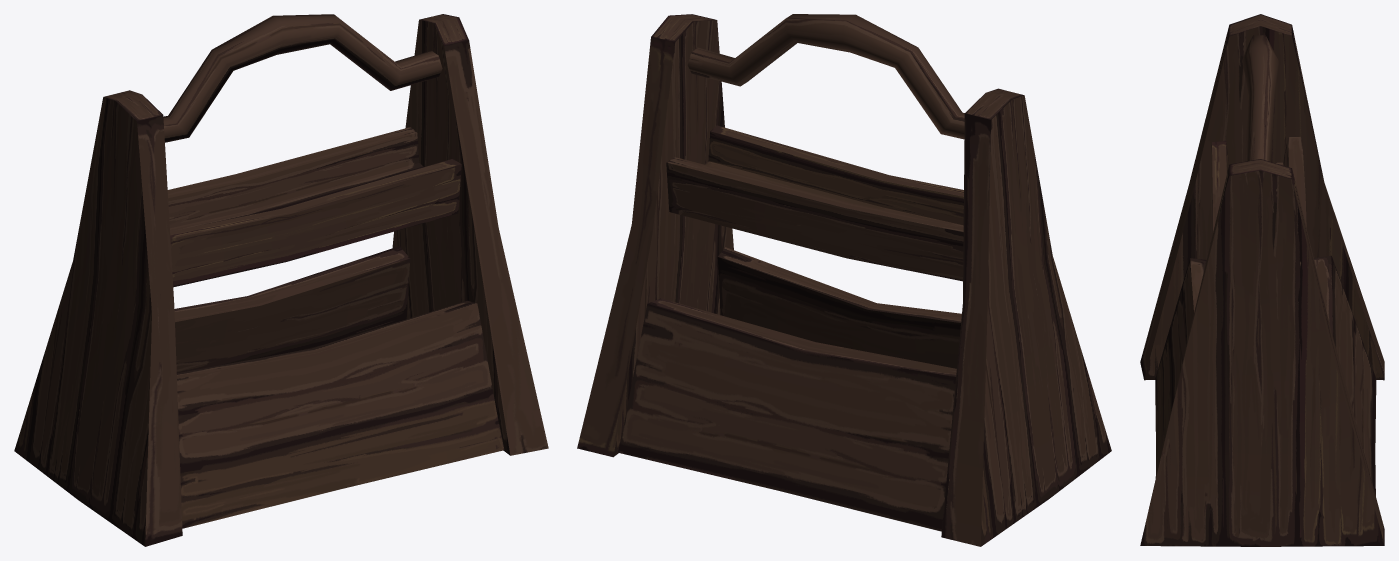
File: SM_PROP_toolbox_battle.fbx
3 views of the same model, side by side, from view 1: azimuth 30°, elevation 25°; view 2: azimuth 150°, elevation 25°; view 3: azimuth 270°, elevation 25° (orthographic). The views are drawn at different scales.
Visible parts, largest first — view 1: SM_PROP_toolbox_battle; view 2: SM_PROP_toolbox_battle; view 3: SM_PROP_toolbox_battle.
Part boxes in pixels (bbox=[...]): SM_PROP_toolbox_battle: bbox=[14, 14, 548, 546]; SM_PROP_toolbox_battle: bbox=[577, 14, 1111, 546]; SM_PROP_toolbox_battle: bbox=[1140, 14, 1384, 546].
Size of the model in its own units: 55.76 by 56.44 by 31.02.
